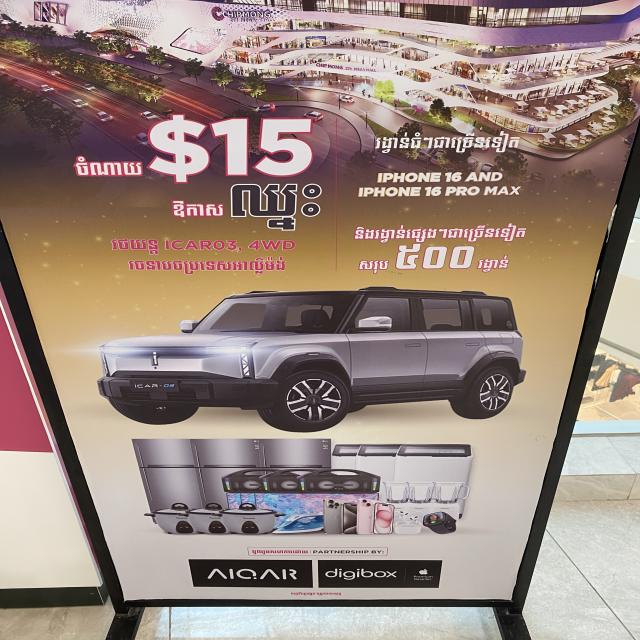120: (144, 110, 323, 186)
598: (442, 171, 465, 185), (422, 186, 445, 198)
705: (225, 236, 261, 254)
Yolov11_80vkh: (226, 179, 327, 233), (350, 222, 531, 245), (373, 129, 523, 155), (126, 255, 290, 276), (389, 240, 481, 273), (71, 155, 144, 178), (170, 199, 226, 220), (110, 236, 162, 255), (474, 254, 513, 273), (357, 259, 390, 274)
